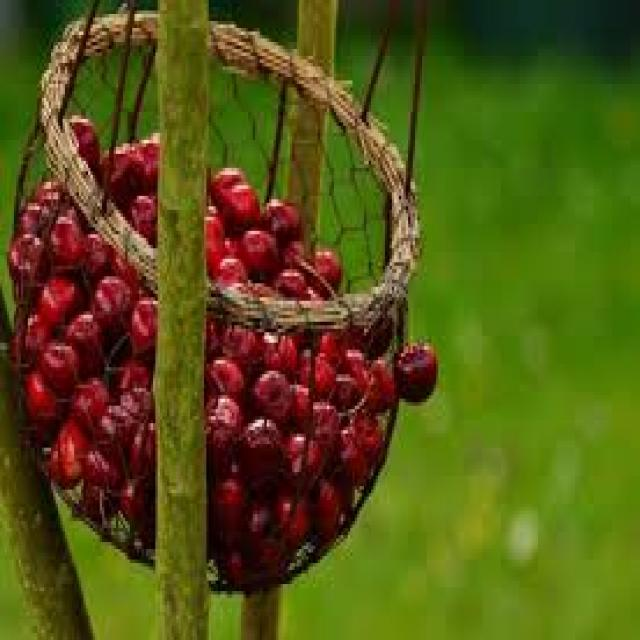organic waste: (229, 413, 283, 486), (95, 136, 148, 206), (278, 420, 327, 493), (49, 406, 90, 490), (206, 462, 244, 552), (65, 308, 109, 378), (93, 395, 137, 462), (389, 332, 434, 395), (116, 476, 155, 546), (236, 483, 276, 549), (37, 276, 86, 329), (204, 395, 241, 465), (88, 269, 130, 329), (40, 203, 84, 259), (37, 336, 81, 392), (218, 318, 262, 374), (100, 346, 146, 399), (83, 441, 116, 507), (125, 290, 160, 350), (23, 367, 58, 427), (236, 220, 276, 270), (4, 231, 42, 283), (248, 367, 285, 420), (123, 412, 151, 482), (70, 374, 106, 427), (18, 311, 54, 364), (306, 395, 336, 458), (339, 427, 371, 486), (123, 185, 158, 238), (278, 493, 313, 546), (348, 412, 385, 462), (253, 528, 290, 577), (218, 182, 257, 227), (329, 458, 357, 518), (311, 476, 341, 532), (262, 192, 301, 235), (216, 538, 255, 580), (134, 130, 160, 192), (202, 206, 225, 276), (72, 227, 107, 273), (204, 357, 239, 402), (68, 112, 98, 164), (339, 346, 371, 392), (10, 266, 40, 315), (324, 371, 362, 409), (255, 332, 292, 371), (204, 164, 244, 200), (14, 196, 51, 234), (123, 381, 155, 423), (267, 259, 308, 290), (308, 245, 338, 287), (276, 228, 306, 270), (366, 356, 389, 406), (285, 381, 311, 423), (102, 248, 132, 284), (7, 325, 30, 367), (320, 325, 343, 367), (26, 175, 60, 203), (313, 353, 334, 395), (216, 245, 241, 280), (290, 346, 315, 381), (362, 311, 389, 343), (292, 325, 318, 346), (218, 231, 243, 252), (204, 314, 218, 350), (341, 322, 369, 339), (12, 304, 30, 326)
